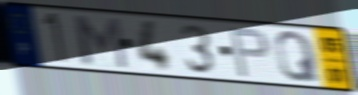1: (41, 12, 69, 66)
3: (179, 23, 218, 75)
4: (136, 18, 176, 74)
M: (70, 13, 131, 71)
P: (228, 26, 273, 79)
Q: (272, 29, 323, 84)
